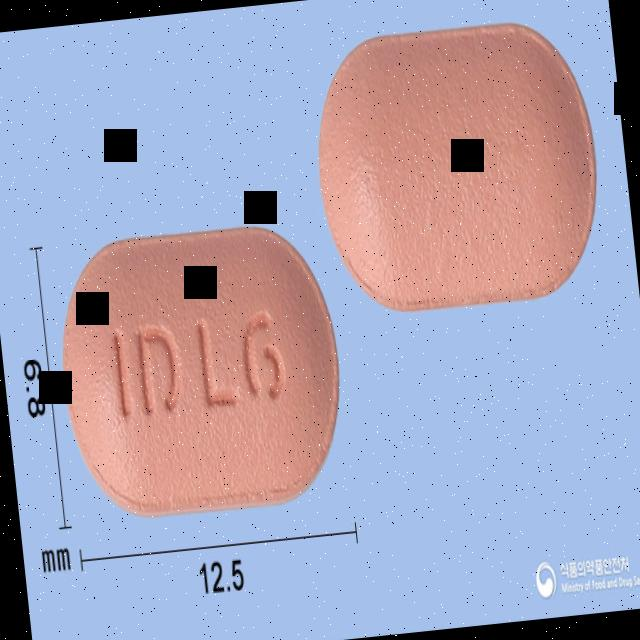Levofexin - 500mg: (49, 218, 354, 524)
